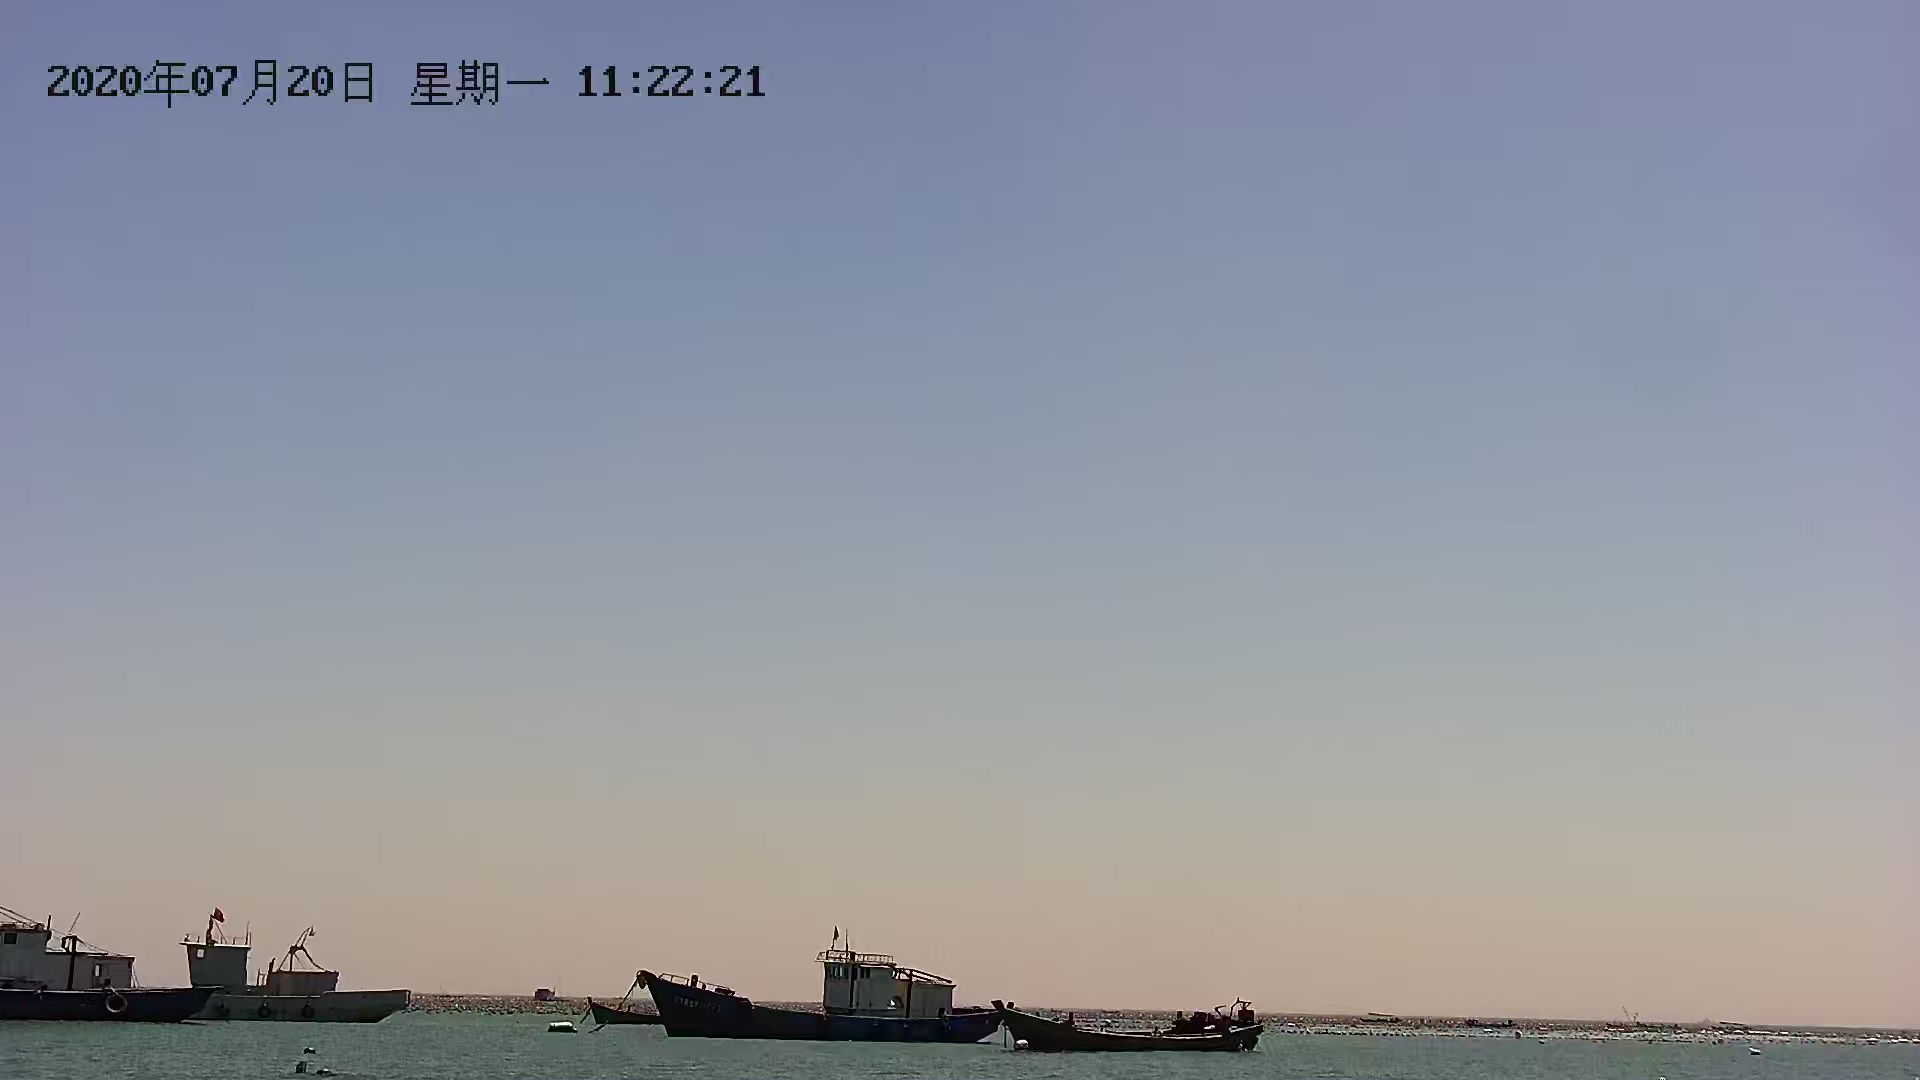boat: (640, 953, 996, 1048), (129, 930, 417, 1035), (988, 1000, 1258, 1059), (1, 923, 156, 1021), (582, 993, 663, 1027)
